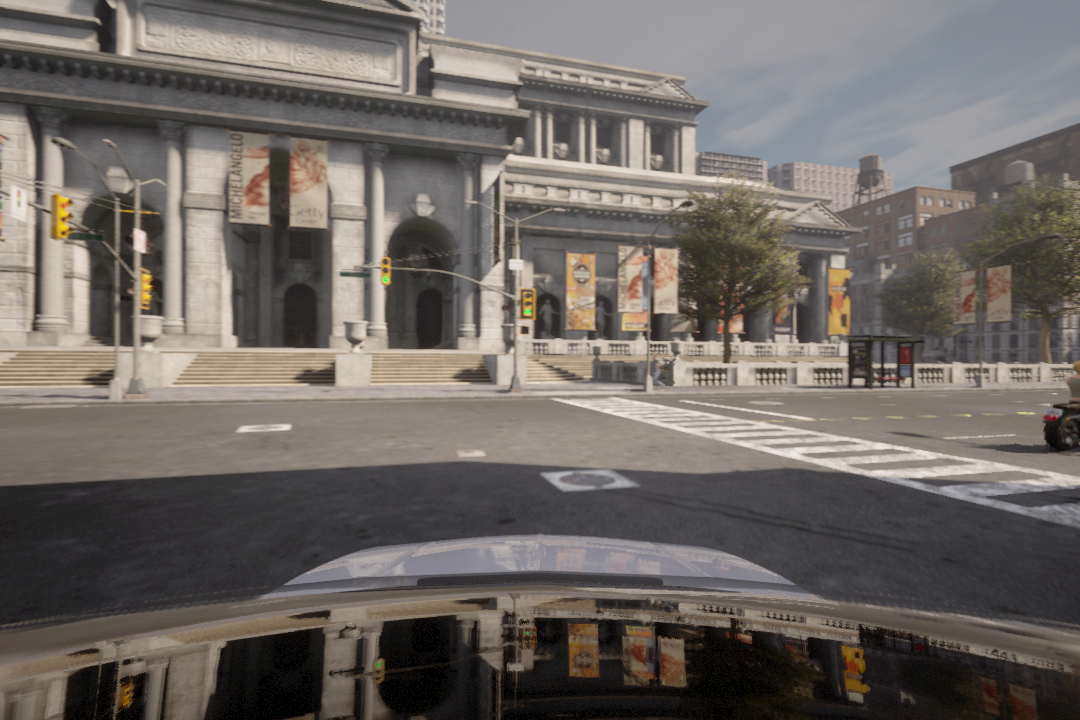TrafficLight: (518, 287, 537, 321), (380, 257, 391, 286)
walkside: (554, 394, 1080, 532)
